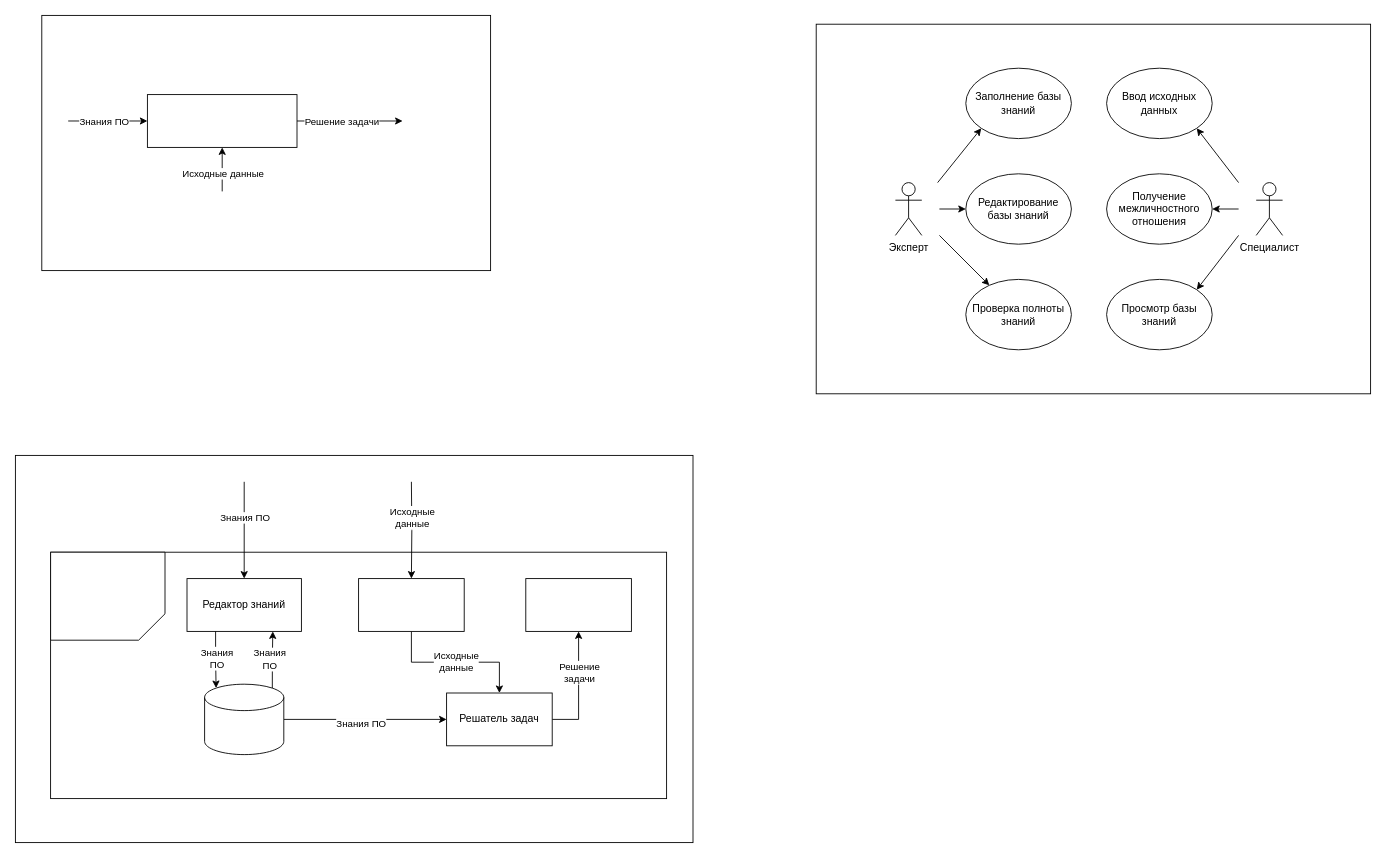
Some shapes in this 1386 by 858 pixel diagram are drawn without their labels. The shapes that lost their labels are listed below. From the top down, each one's box as (x1, y1, x2, y2) in pixels, then its label:
(147, 94, 297, 147): Система классификации драгоценных камней
(50, 551, 165, 640): Система классификации межличностных отношений
(358, 578, 464, 631): Система ввода исходных данных
(525, 578, 631, 631): Система вывода результата и объяснений
(204, 683, 284, 755): База знаний
